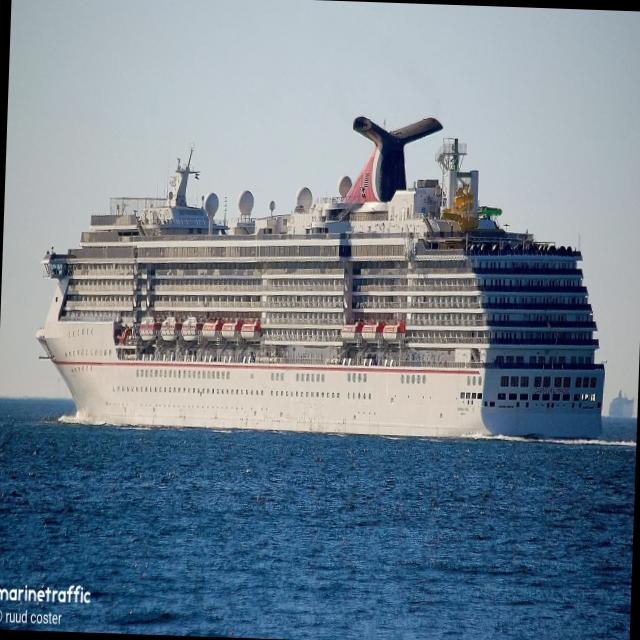Cruise: (34, 114, 607, 439), (609, 389, 632, 420)
